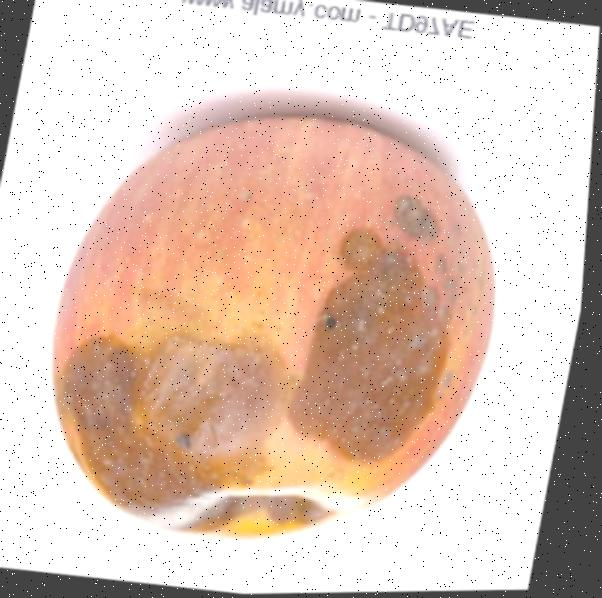ROT: (0, 35, 578, 585)
